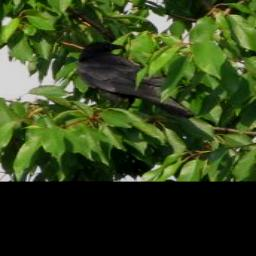Crow: (74, 41, 196, 118)
